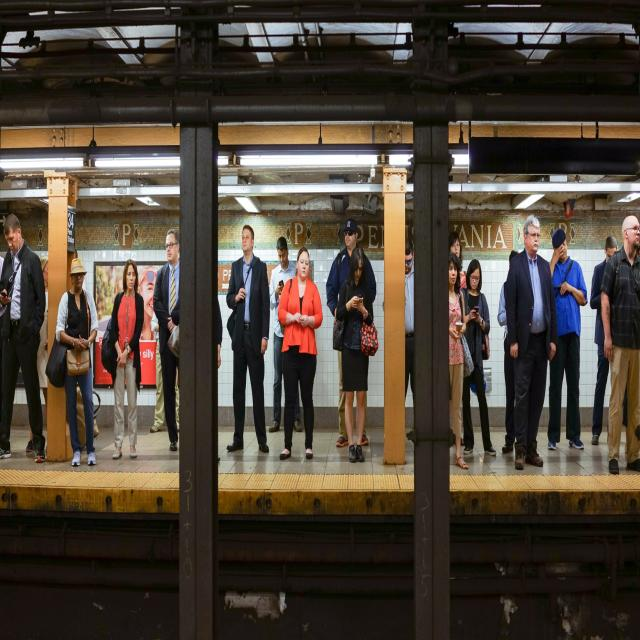body: (504, 211, 560, 472), (325, 217, 377, 449), (44, 256, 100, 469), (0, 212, 47, 464), (224, 222, 272, 456), (599, 212, 640, 477), (331, 244, 379, 465), (276, 243, 324, 462), (546, 227, 589, 451), (99, 258, 145, 461), (267, 235, 306, 436), (461, 257, 497, 457), (588, 234, 620, 446), (152, 226, 181, 453), (382, 235, 414, 407), (25, 255, 50, 455), (448, 251, 470, 472), (498, 249, 520, 455), (170, 290, 223, 370), (150, 310, 182, 434), (130, 264, 160, 342), (448, 229, 468, 289), (0, 254, 4, 283)
